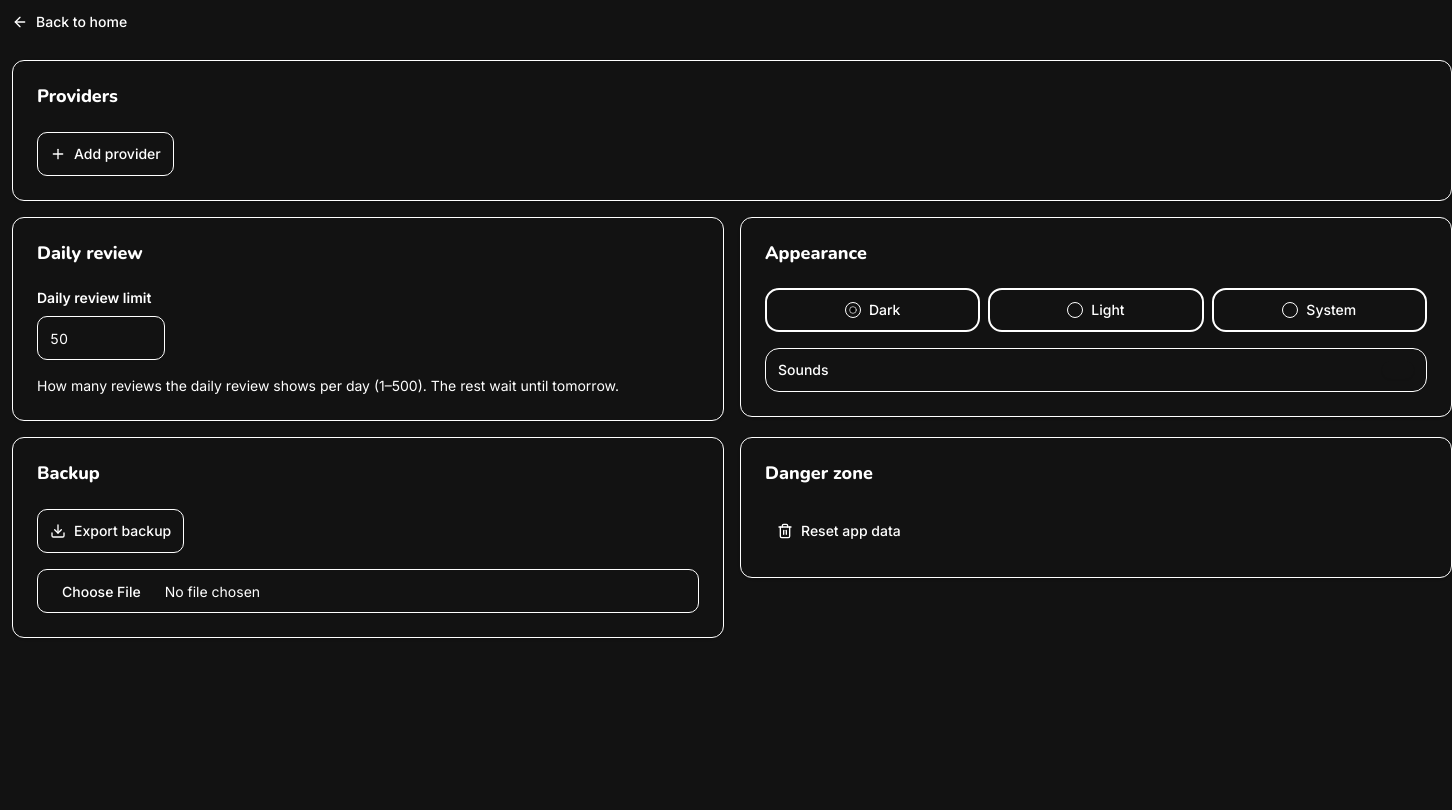
Test: SettingsPage › lets the user pick a model for the newly added connection
This screenshot has width=1452, height=810.
Click the button "Add provider" at (105, 154), box x1=37 y1=132 x2=174 y2=176
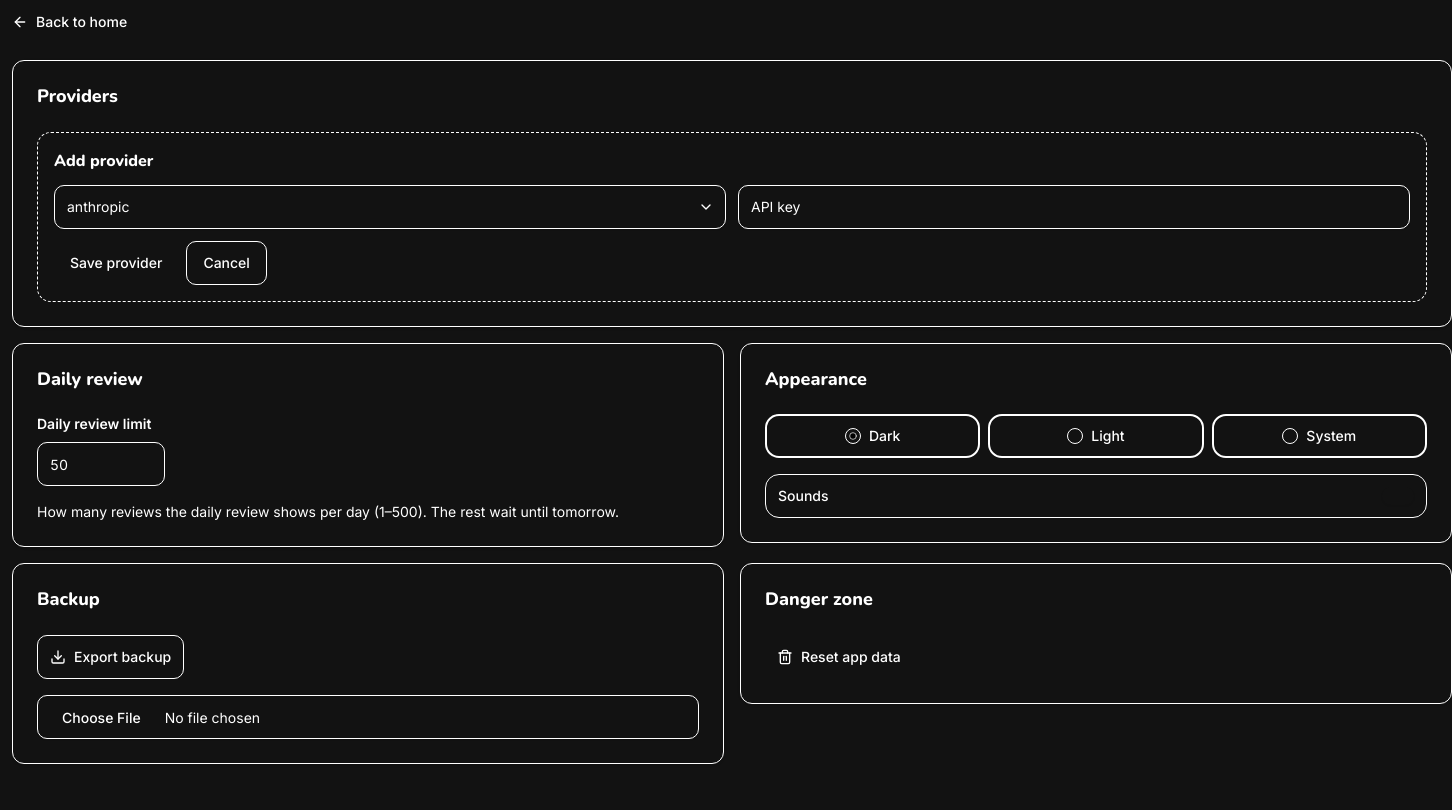
Type "sk-ant" into the password field with placeholder "API key" at (1074, 206), box x1=738 y1=184 x2=1410 y2=228
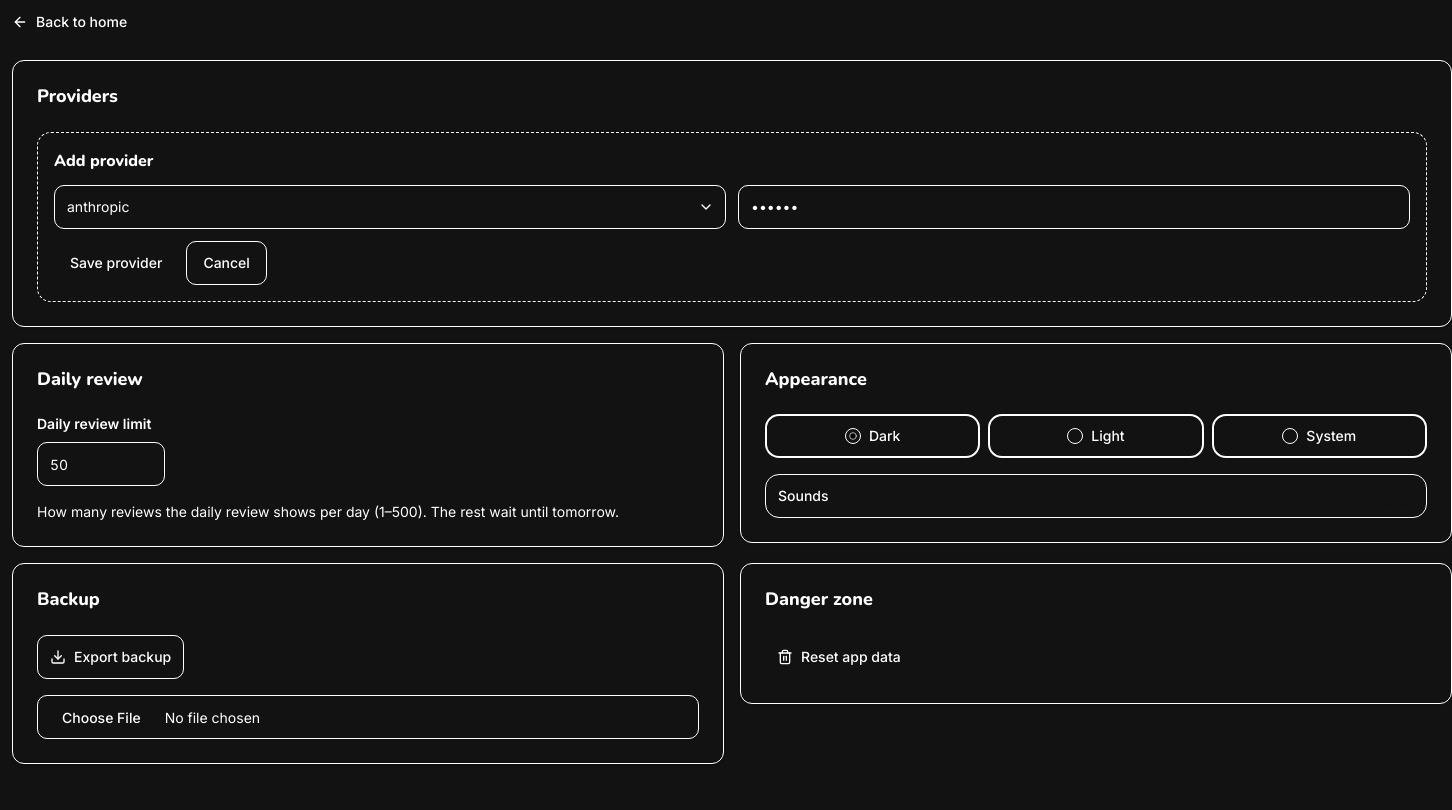
Click the button "Save provider" at (116, 262), box x1=54 y1=240 x2=178 y2=284
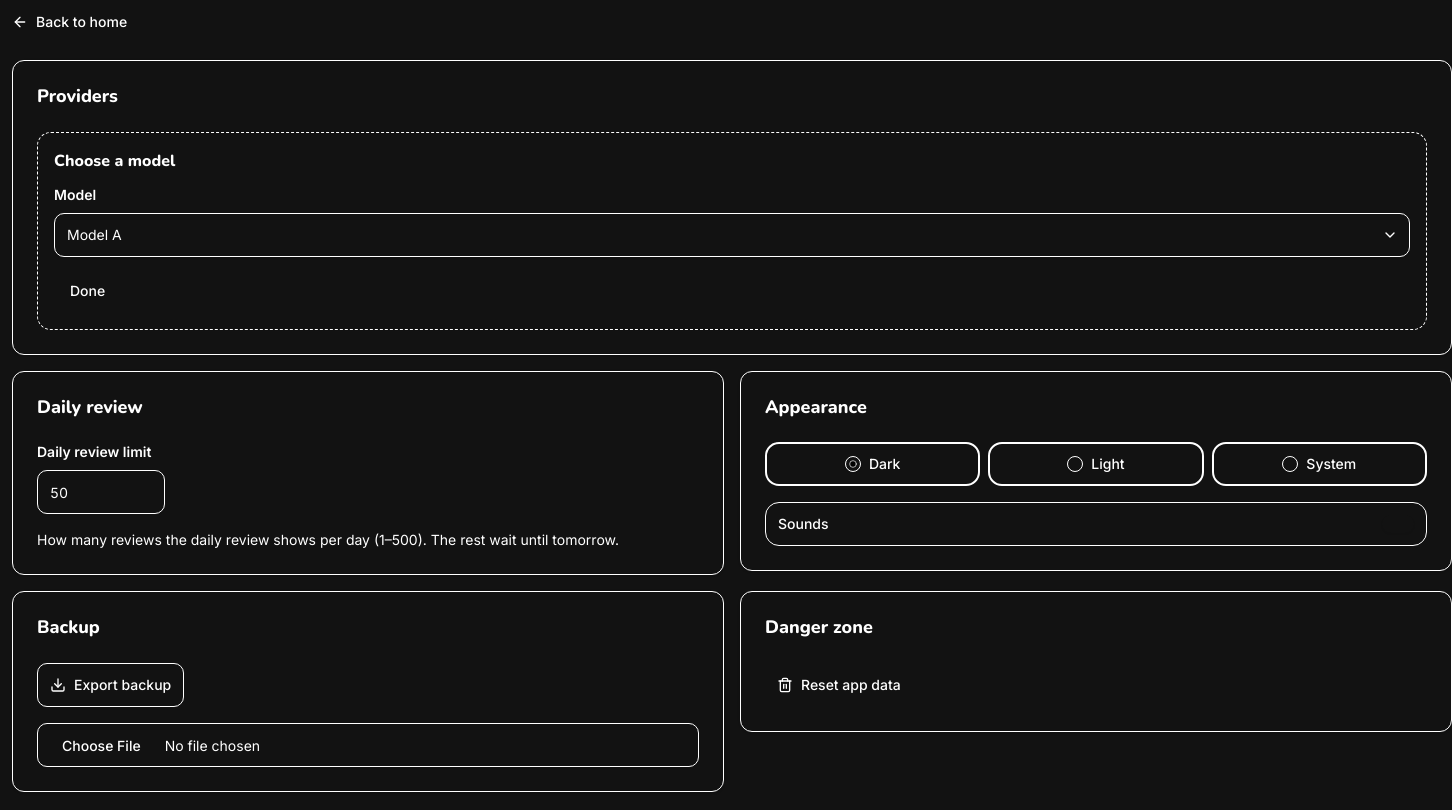
Select "Model B" in the dropdown labelled "Model" at (732, 234), box x1=54 y1=212 x2=1410 y2=256
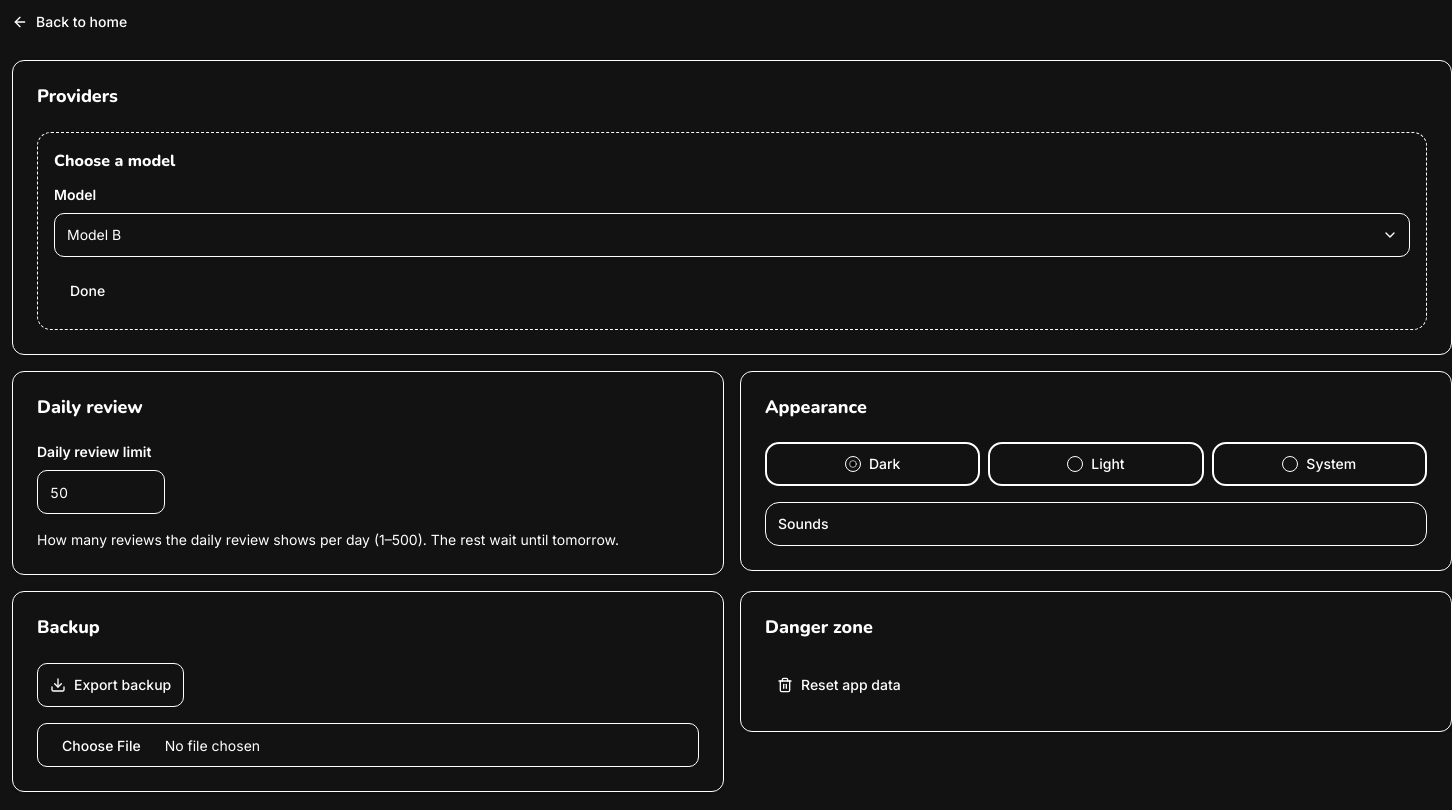
Click the button "Done" at (88, 290), box x1=54 y1=268 x2=121 y2=312
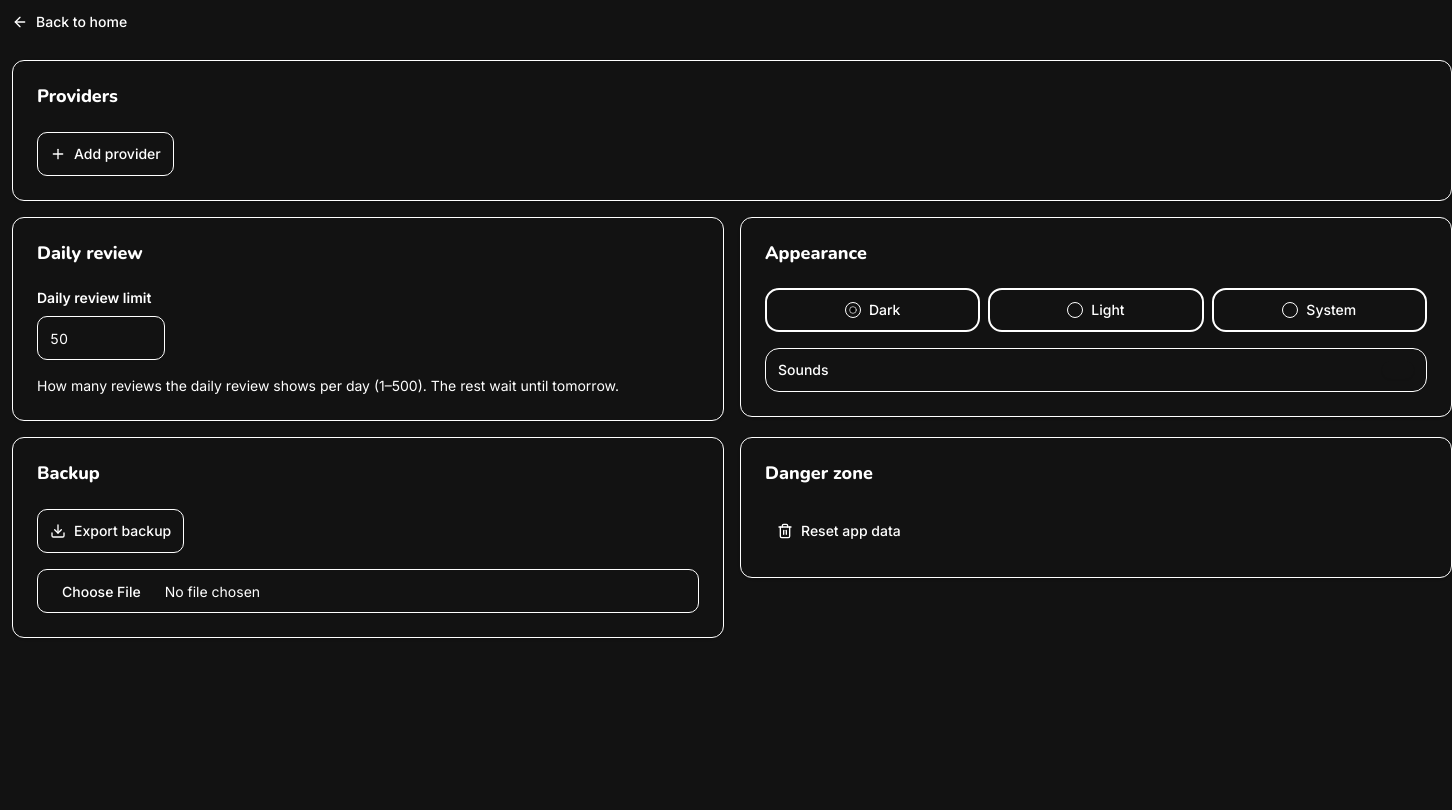
Check: the button "Done" is gone
